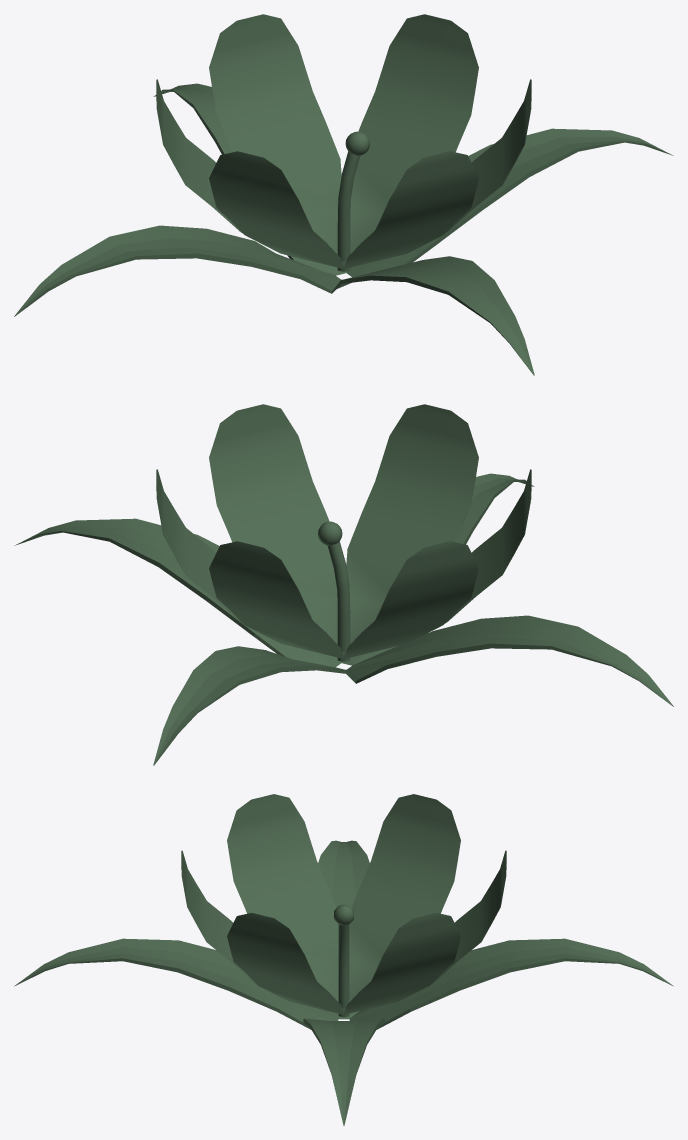
Rendered from Planta2.fbx.
3 renders of one model, top to bottom at view 1: azimuth 30°, elevation 25°; view 2: azimuth 150°, elevation 25°; view 3: azimuth 270°, elevation 25°, orthographic. The views are drawn at different scales.
Visible parts, largest first — view 1: pCube28, pCube31, pCylinder1; view 2: pCube28, pCube31, pCylinder1; view 3: pCube28, pCube31, pCylinder1.
Part boxes in pixels (left/top/right/bottom): pCube28: left=156, top=14, right=531, bottom=268; pCube31: left=14, top=83, right=673, bottom=375; pCylinder1: left=337, top=151, right=360, bottom=271; pCube28: left=156, top=404, right=531, bottom=658; pCube31: left=14, top=473, right=673, bottom=765; pCylinder1: left=327, top=541, right=350, bottom=661; pCube28: left=181, top=794, right=506, bottom=1014; pCube31: left=14, top=840, right=673, bottom=1125; pCylinder1: left=338, top=924, right=349, bottom=1017.
Size of the model in its own units: 2.4 by 0.6633 by 2.4.
